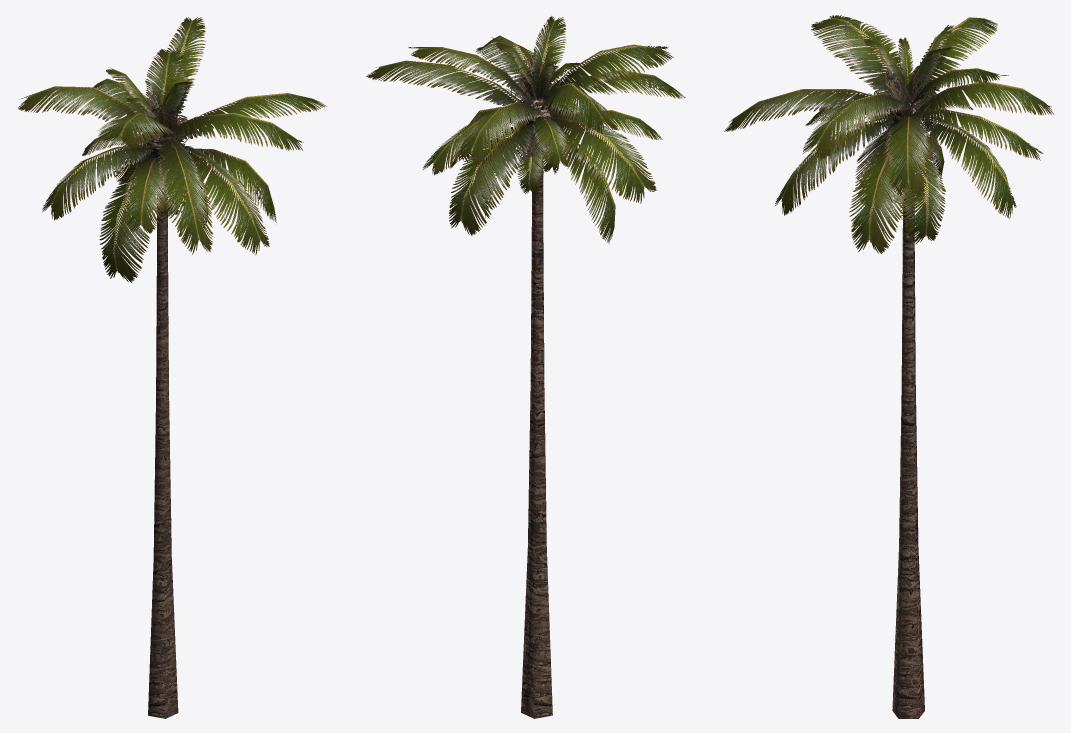
File: palm.glb
3 renders of one model, left to right at view 1: azimuth 30°, elevation 25°; view 2: azimuth 150°, elevation 25°; view 3: azimuth 270°, elevation 25°, orthographic. The views are drawn at different scales.
Visible parts, largest first — view 1: palm; view 2: palm; view 3: palm.
Boxes of the visible parts, <box> form: palm: <box>18,17,326,718</box>; palm: <box>366,16,685,718</box>; palm: <box>724,15,1054,718</box>.
Bounding box in the file's own units: 198 × 440 × 198.
Materials: 1 (1 with a texture image).
